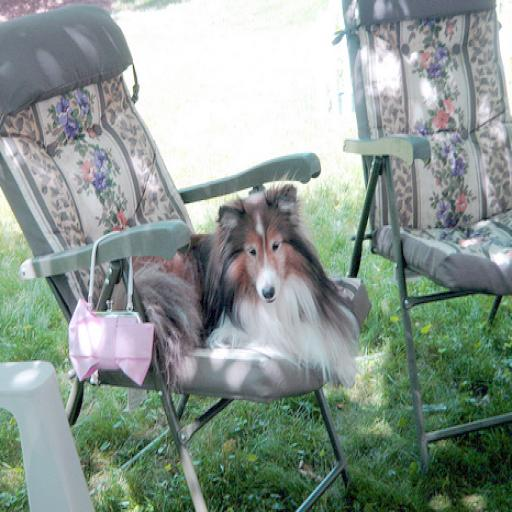dog_face: (218, 187, 305, 312)
